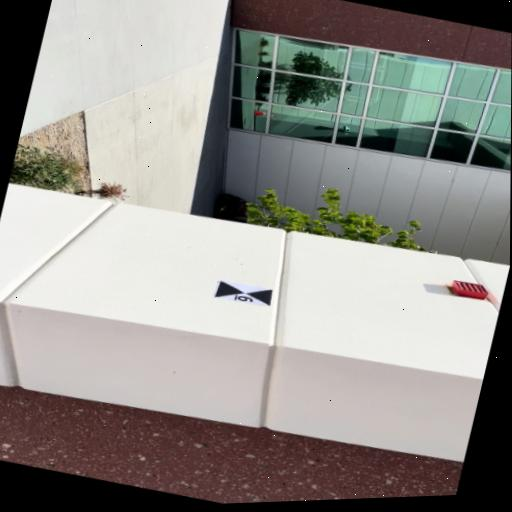target6: (214, 280, 275, 306)
